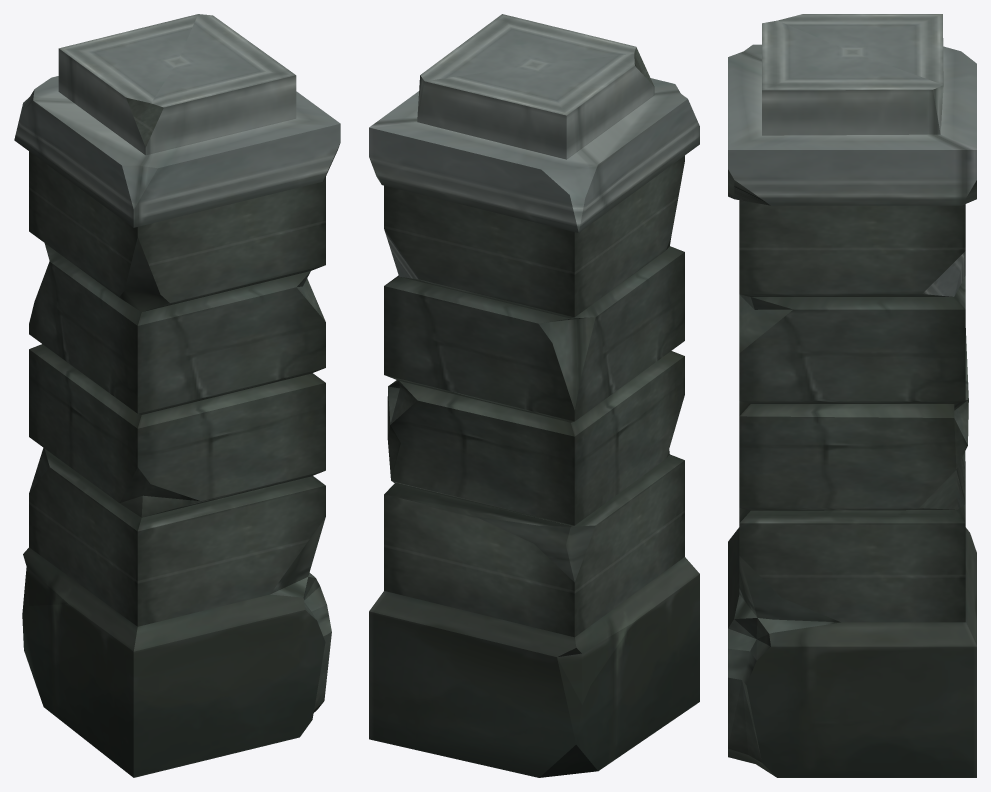
Rendered from pillar_type010.FBX.
3 views of the same model, side by side, from view 1: azimuth 30°, elevation 25°; view 2: azimuth 150°, elevation 25°; view 3: azimuth 270°, elevation 25° (orthographic). The views are drawn at different scales.
Visible parts, largest first — view 1: pillar_type010; view 2: pillar_type010; view 3: pillar_type010.
Part boxes in pixels (<box>): pillar_type010: <box>14,14,340,777</box>; pillar_type010: <box>369,14,699,777</box>; pillar_type010: <box>728,14,976,777</box>.
Bounding box in the file's own units: 220 × 657 × 220.
